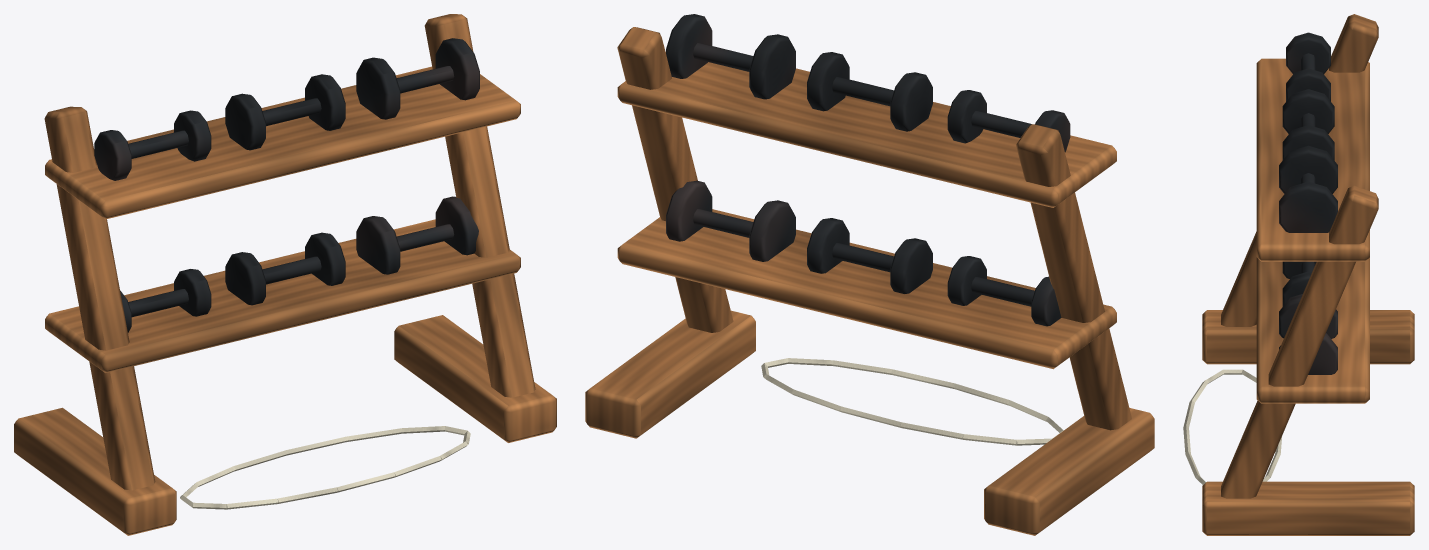
File: Furn_Life_DumbbellRack.fbx
3 views of the same model, side by side, from view 1: azimuth 30°, elevation 25°; view 2: azimuth 150°, elevation 25°; view 3: azimuth 270°, elevation 25° (orthographic). The views are drawn at different scales.
Visible parts, largest first — view 1: Furn_Life_DumbbellRack; view 2: Furn_Life_DumbbellRack; view 3: Furn_Life_DumbbellRack.
Boxes of the visible parts, bbox=[...] form: Furn_Life_DumbbellRack: bbox=[14, 14, 556, 535]; Furn_Life_DumbbellRack: bbox=[585, 14, 1154, 535]; Furn_Life_DumbbellRack: bbox=[1183, 14, 1414, 535].
Bounding box in the file's own units: 1 × 0.8 × 0.5.
3 materials, 3 textured.
